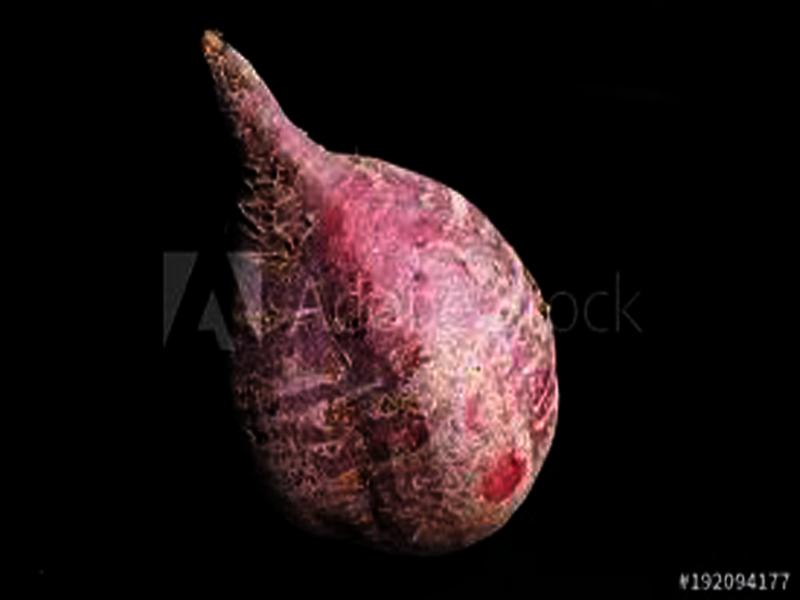Beet: (204, 30, 561, 551)
